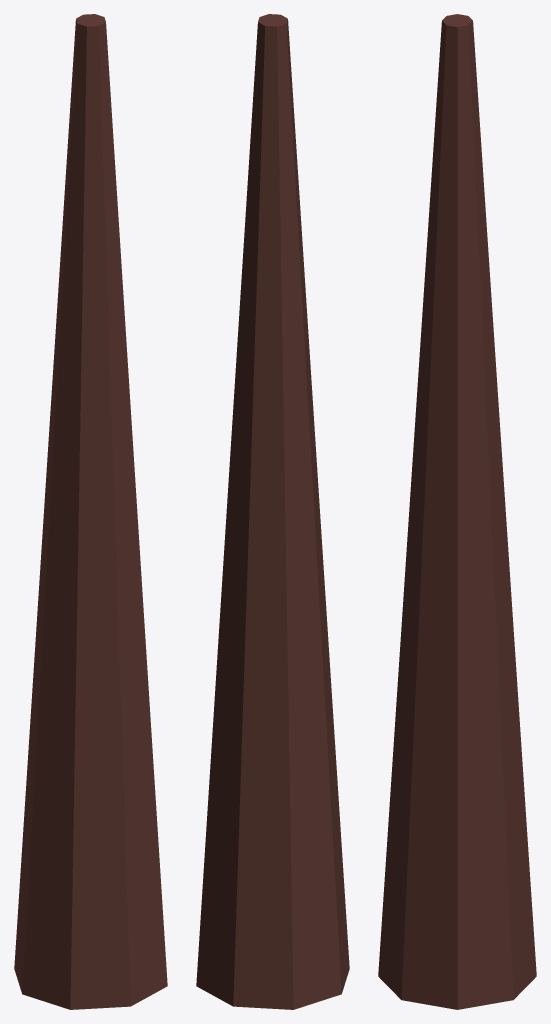
The model's file is PineTreeDead.fbx.
The picture shows the model from 3 angles, left to right: view 1: azimuth 30°, elevation 25°; view 2: azimuth 150°, elevation 25°; view 3: azimuth 270°, elevation 25°; orthographic projection.
Visible parts, largest first — view 1: PineTree; view 2: PineTree; view 3: PineTree.
Part boxes in pixels (box(x1,y1,x2,y2)): PineTree: box(14, 14, 167, 1009); PineTree: box(196, 14, 349, 1009); PineTree: box(378, 14, 536, 1009).
Size of the model in its own units: 68.43 by 455 by 68.43.
